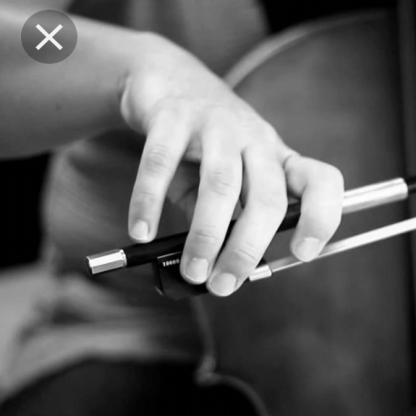good: (121, 90, 346, 296)
